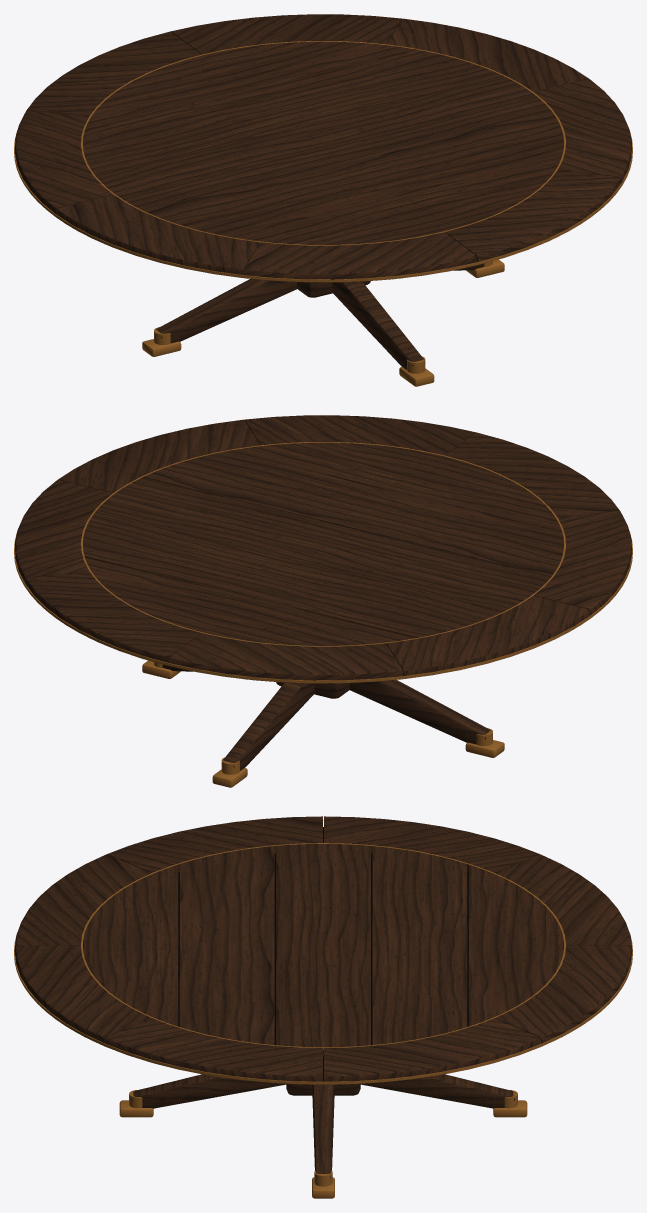
Rendered from arrival-table.lod0.glb.
The picture shows the model from 3 angles, top to bottom: view 1: azimuth 30°, elevation 25°; view 2: azimuth 150°, elevation 25°; view 3: azimuth 270°, elevation 25°; orthographic projection.
Parts seen in each view (by area): view 1: arrival_table_Timber • oiled walnut, arrival_table_Trim • brass and bronze; view 2: arrival_table_Timber • oiled walnut, arrival_table_Trim • brass and bronze; view 3: arrival_table_Timber • oiled walnut, arrival_table_Trim • brass and bronze.
Part boxes in pixels (<box>): arrival_table_Timber • oiled walnut: <box>15,14,631,369</box>; arrival_table_Trim • brass and bronze: <box>14,41,632,386</box>; arrival_table_Timber • oiled walnut: <box>15,415,631,770</box>; arrival_table_Trim • brass and bronze: <box>14,442,632,787</box>; arrival_table_Timber • oiled walnut: <box>14,816,632,1178</box>; arrival_table_Trim • brass and bronze: <box>14,820,632,1198</box>.
Bounding box in the file's own units: 2.01 × 0.6 × 2.01.
Materials: 2 (2 with a texture image).
